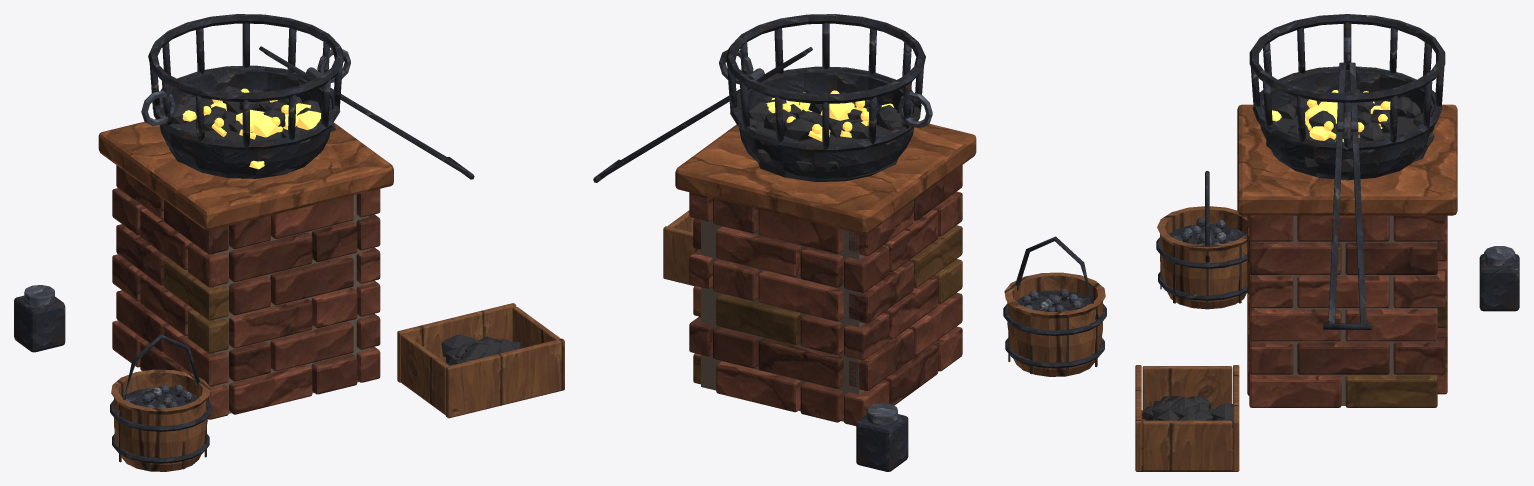
The model's file is hw_rivet_brazier.glb.
The picture shows the model from 3 angles, left to right: view 1: azimuth 30°, elevation 25°; view 2: azimuth 150°, elevation 25°; view 3: azimuth 270°, elevation 25°; orthographic projection.
Visible parts, largest first — view 1: model; view 2: model; view 3: model.
Part boxes in pixels (x1=…): model: x1=14, y1=14, x2=564, y2=471; model: x1=593, y1=14, x2=1106, y2=471; model: x1=1135, y1=14, x2=1519, y2=471.
Size of the model in its own units: 1.21 by 0.8681 by 0.96.
15 materials, 10 textured.
